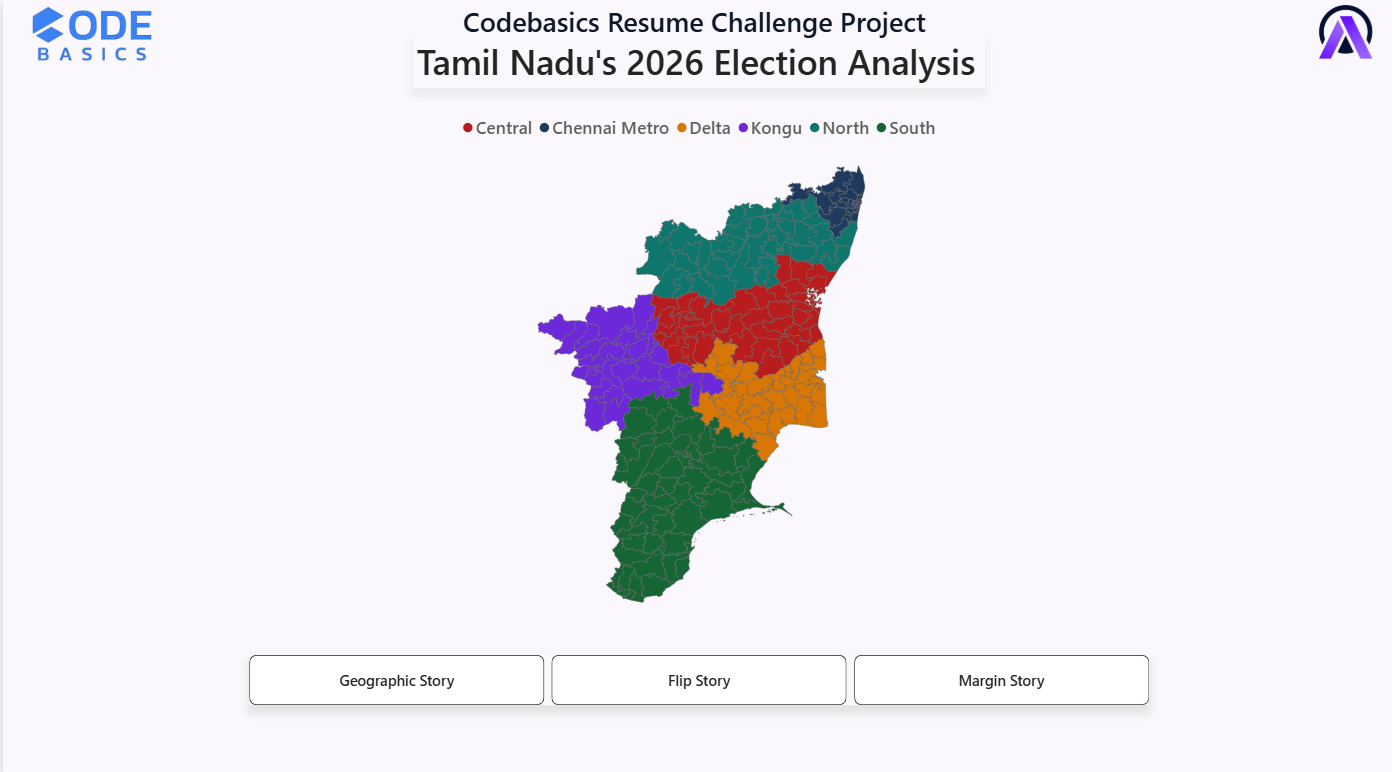

This screenshot's page, from the dashboard's own definition file:
{"tool":"powerbi","page":{"name":"Home","canvas":[1920,1080],"ordinal":0},"visuals":[{"type":"shapeMap","fields":{"Value":["CountNonNull(constituency_win_2026.party)"],"Series":["constituency_win_2026.region"],"Category":["constituency_win_2026.ac_number"]},"box":[538.2,154.5,843.6,709.1],"z":0},{"type":"textbox","box":[628.6,0,662.5,62.5],"z":1000},{"type":"textbox","box":[565.5,47.3,789.1,74.5],"z":2000},{"type":"pageNavigator","box":[340,903.6,1241.8,69.1],"z":3000},{"type":"image","box":[0,9.1,245.5,76.4],"z":4000},{"type":"image","box":[1787.3,0,132.7,85.5],"z":5000}]}

Visuals, with their boxes in screenshot pixels (x1, y1, x2, y2), scaled from the page's 1920x1080 canvas onto the 1392x772 screenshot:
shapeMap - CountNonNull(constituency_win_2026.party) x constituency_win_2026.region: 390 110 1002 617
textbox: 456 0 936 45
textbox: 410 34 982 87
pageNavigator: 246 646 1147 695
image: 0 7 178 61
image: 1296 0 1391 61
